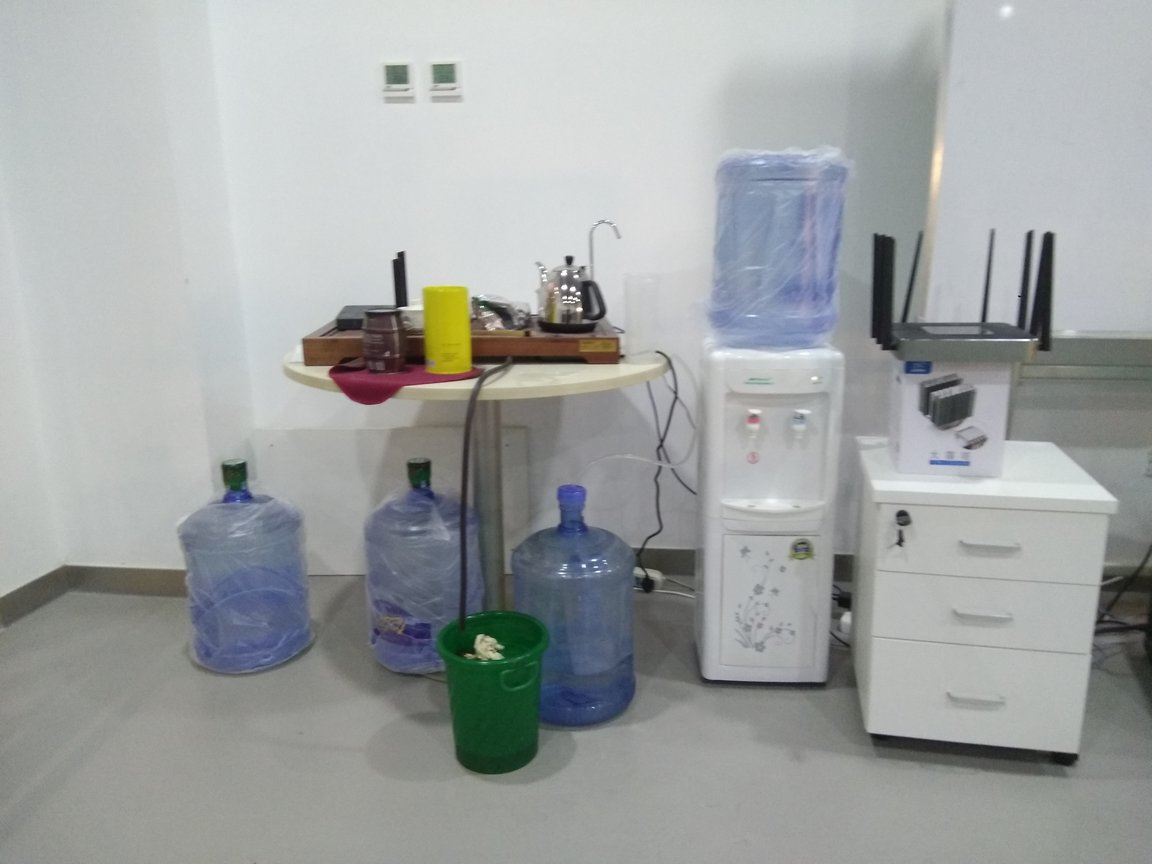drawer chest: (858, 426, 1101, 778)
scuttlebutt: (512, 485, 635, 736), (178, 455, 308, 682), (719, 147, 850, 348), (367, 457, 484, 678)
water dispenser: (704, 332, 832, 686)
